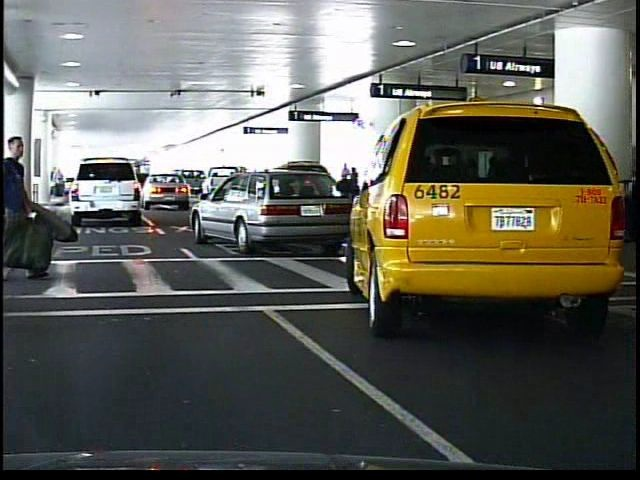person: (337, 163, 349, 199), (349, 164, 358, 181)
